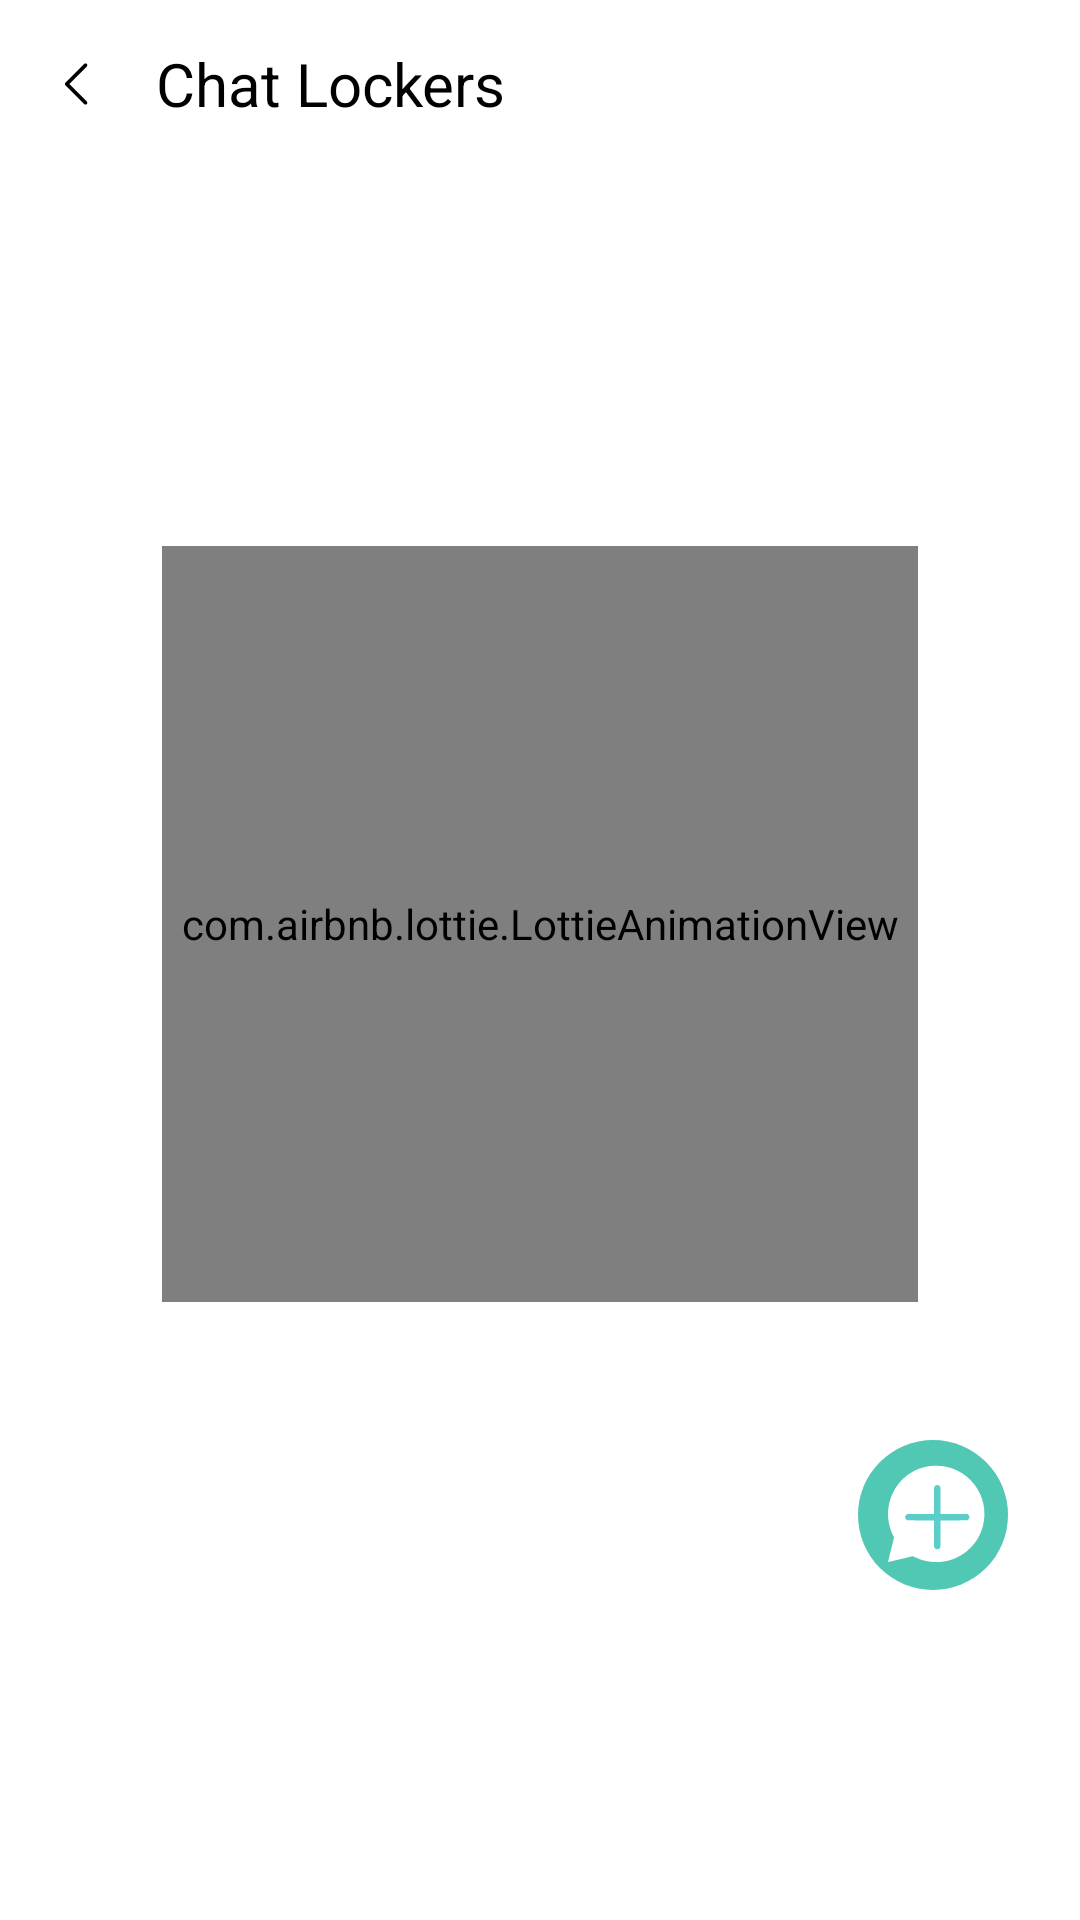

Screen size 1080x1920. Icon name, then its box in pixels as [x1, y1, x2, y2]:
add chattt: [858, 1440, 1008, 1590]
back: [65, 63, 88, 105]
